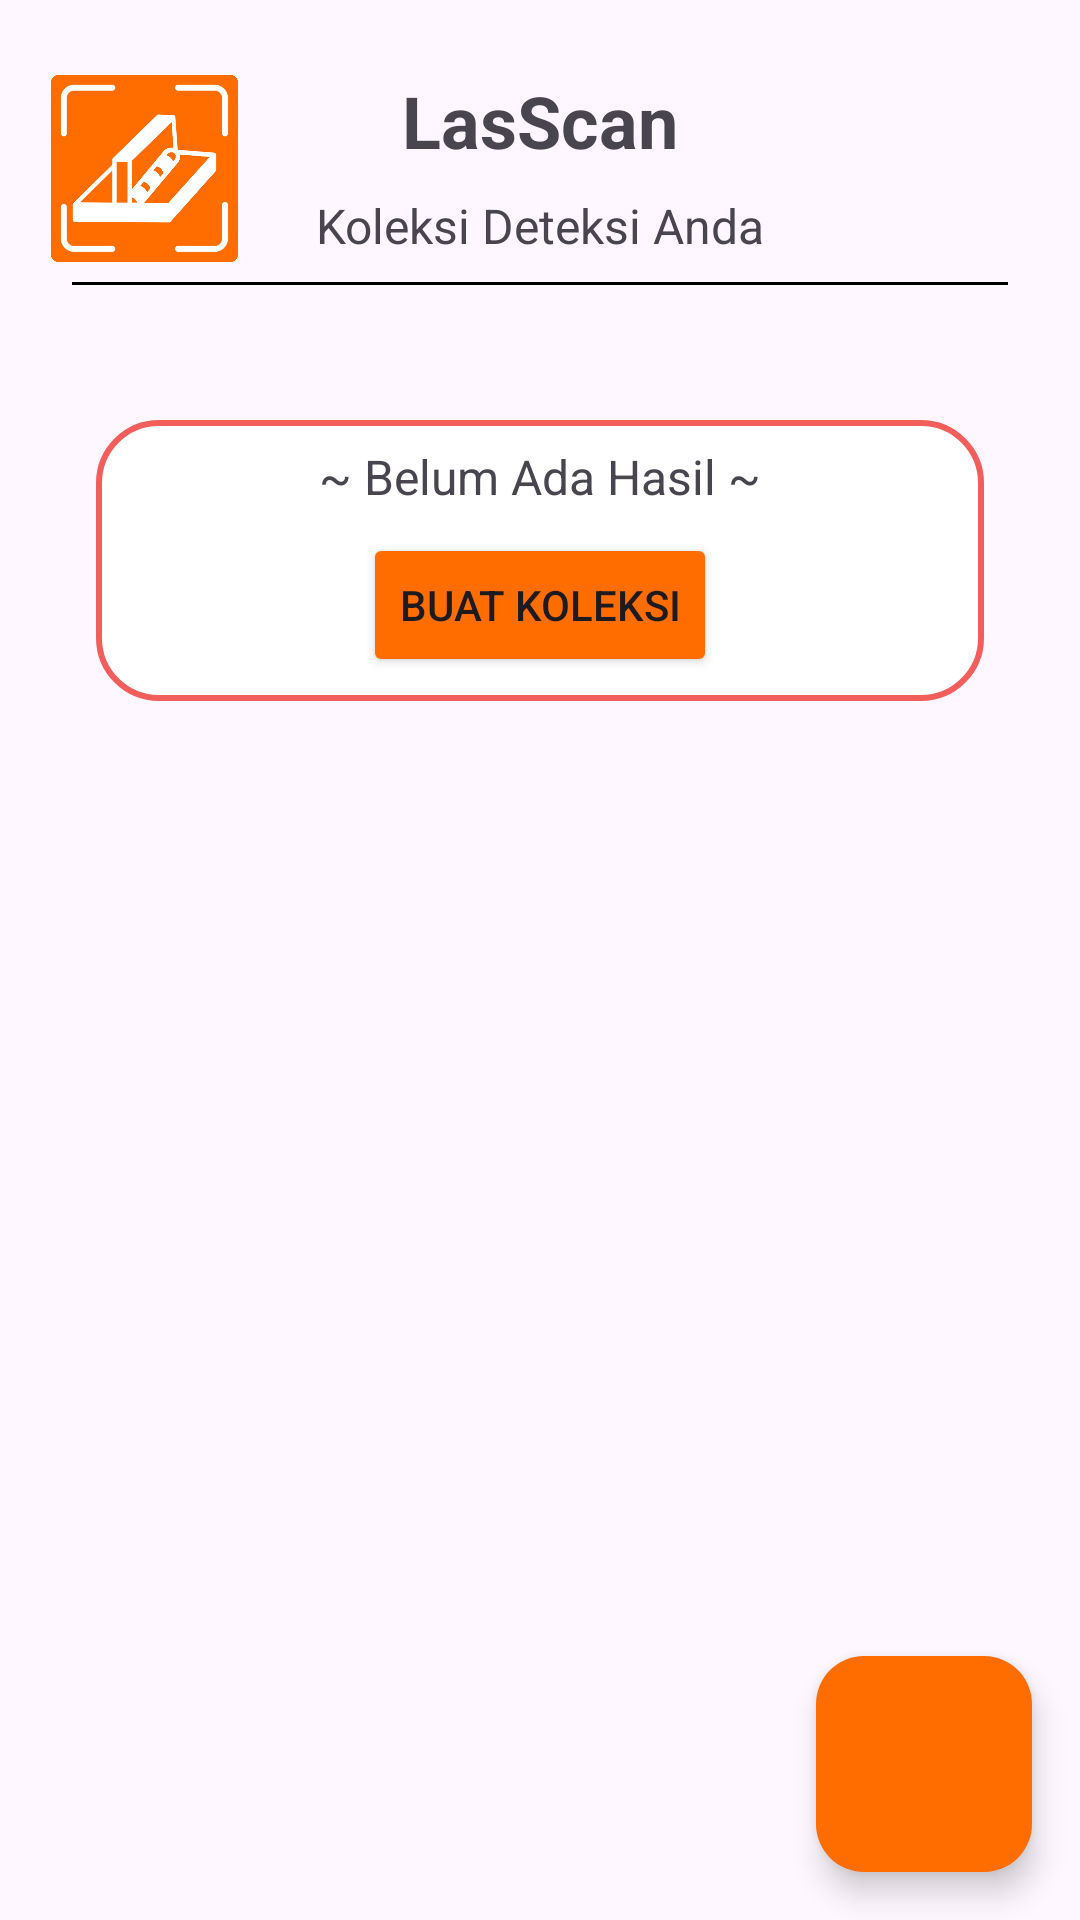

Icons on this 1080 × 1920 Android screen, each with the point to tap as [x,y]:
lasscan: [144,168]
